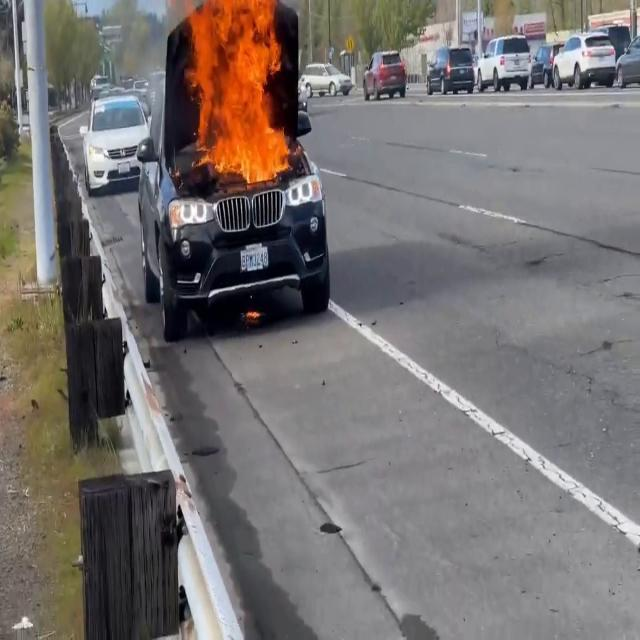Fire: (178, 0, 298, 189)
